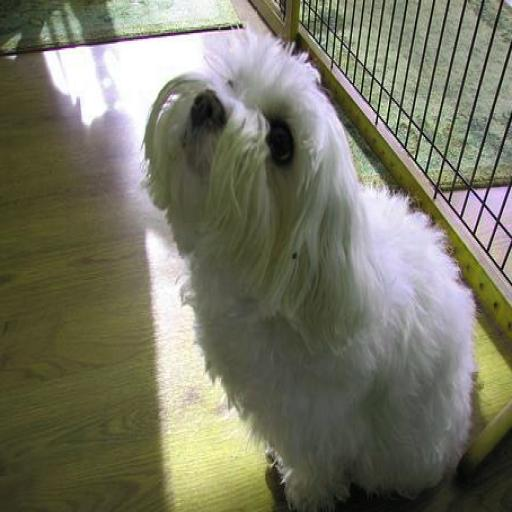dog_face: (140, 33, 350, 276)
